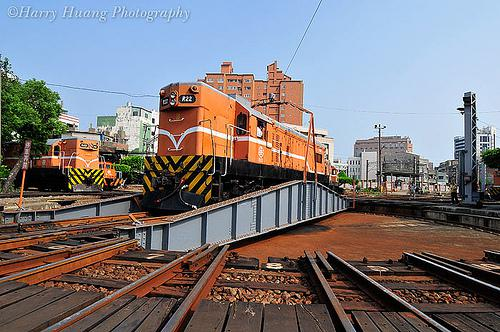Train: (132, 84, 341, 214), (26, 138, 109, 193)
